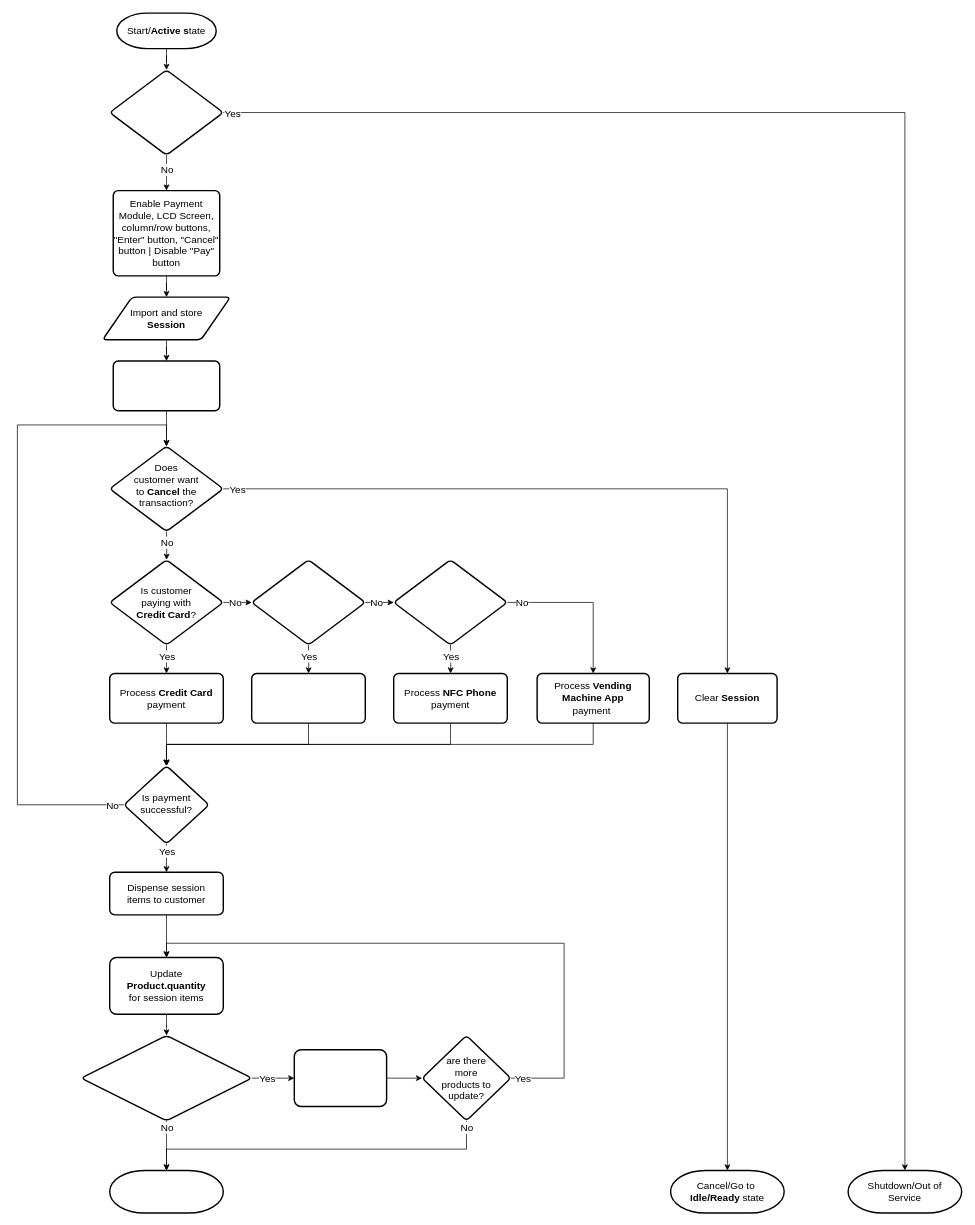
Image size: 975x1225. Some labels were removed from this diagram. The centre of each missing label's shape, as x and y in pixels:
"Are there any power down interruptions?" goes at [166,112].
"Create and send order for Product" goes at [340,1078].
"Display payment options and Session details" goes at [166,385].
"End/Go to Idle/Ready state" goes at [166,1191].
"Is customer paying with Bank Card ?" goes at [308,602].
"Is customer paying with NFC Phone ?" goes at [450,602].
"is Product.quantity less than Product.minQuantity ?" goes at [166,1077].
"Process Bank Card payment" goes at [308,697].
